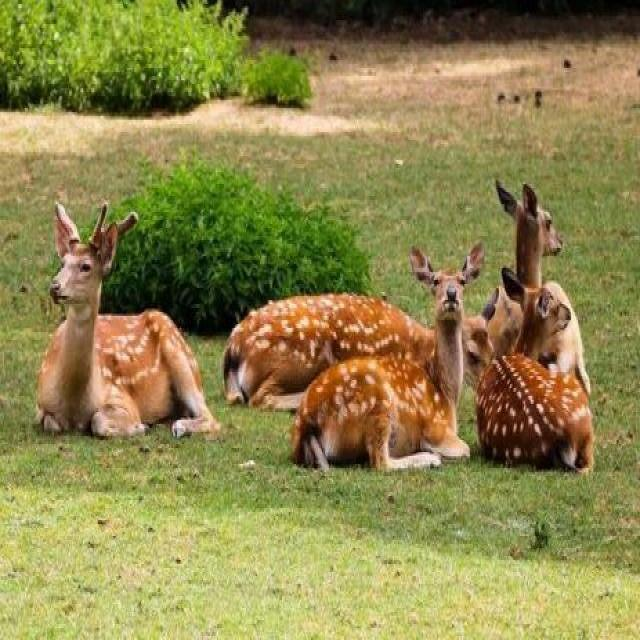deer: (8, 197, 210, 480), (216, 222, 475, 423), (301, 237, 478, 500), (448, 270, 597, 501), (473, 156, 596, 392)
